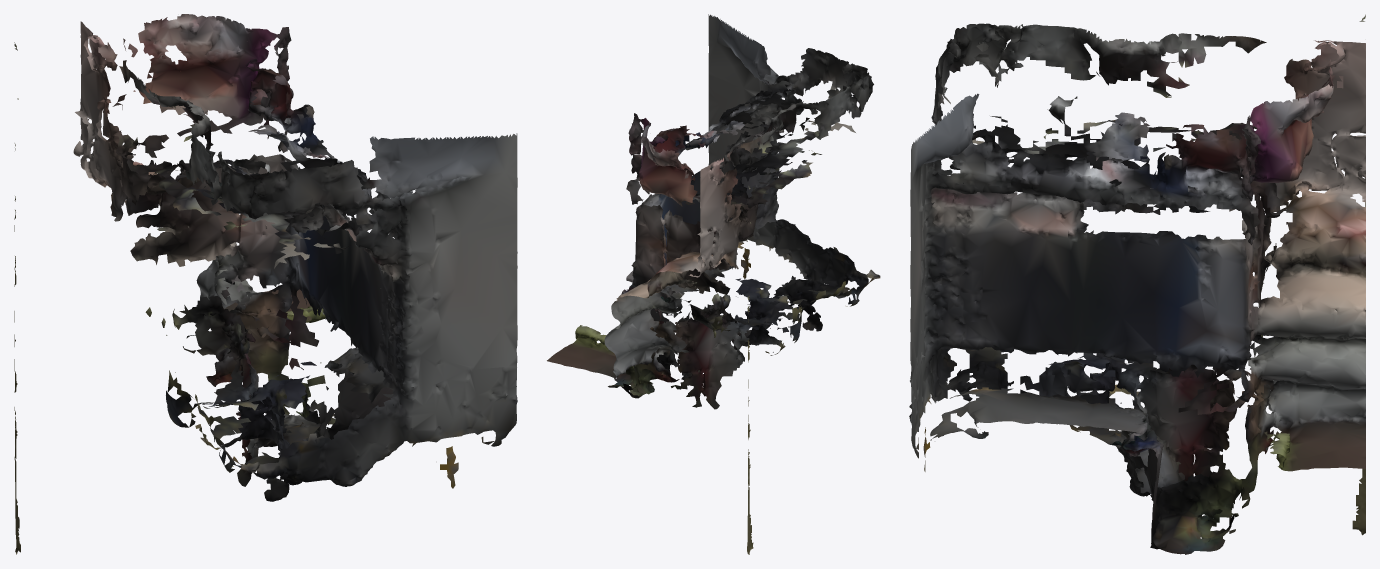
Rendered from medium.glb.
3 renders of one model, left to right at view 1: azimuth 30°, elevation 25°; view 2: azimuth 150°, elevation 25°; view 3: azimuth 270°, elevation 25°, orthographic. The views are drawn at different scales.
Bounding box in the file's own units: 0.9183 × 1.62 × 1.28.
